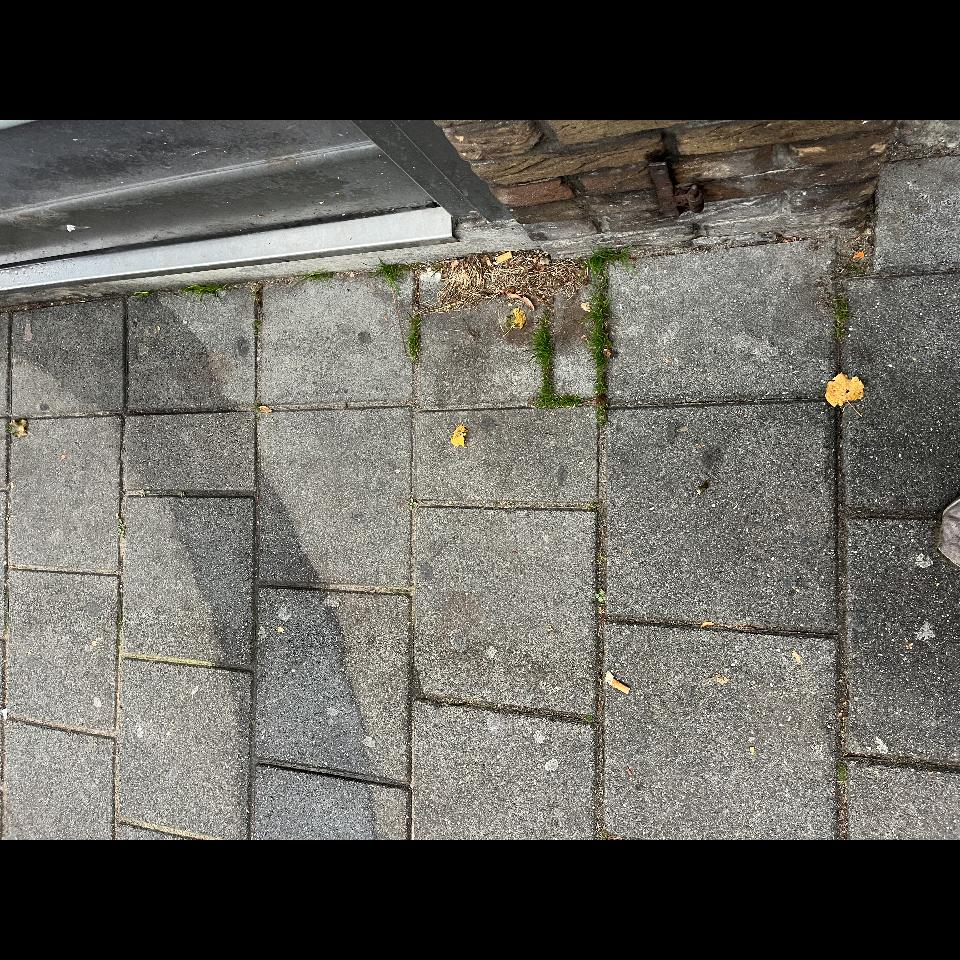weed: (327, 534, 375, 711), (378, 551, 434, 649), (551, 667, 587, 701), (109, 620, 128, 665), (539, 597, 554, 648), (626, 673, 666, 690), (733, 663, 780, 675), (807, 662, 828, 669)
